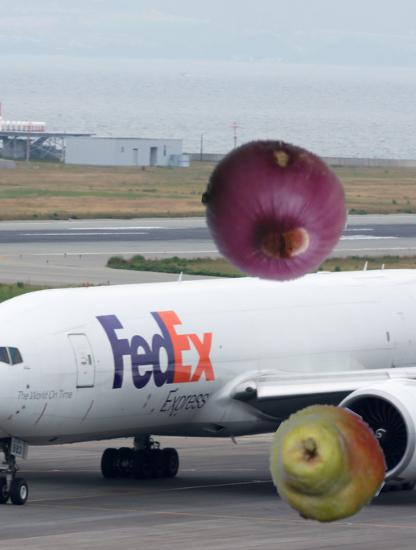Onion: (201, 137, 348, 284)
Pear: (266, 405, 386, 525)
